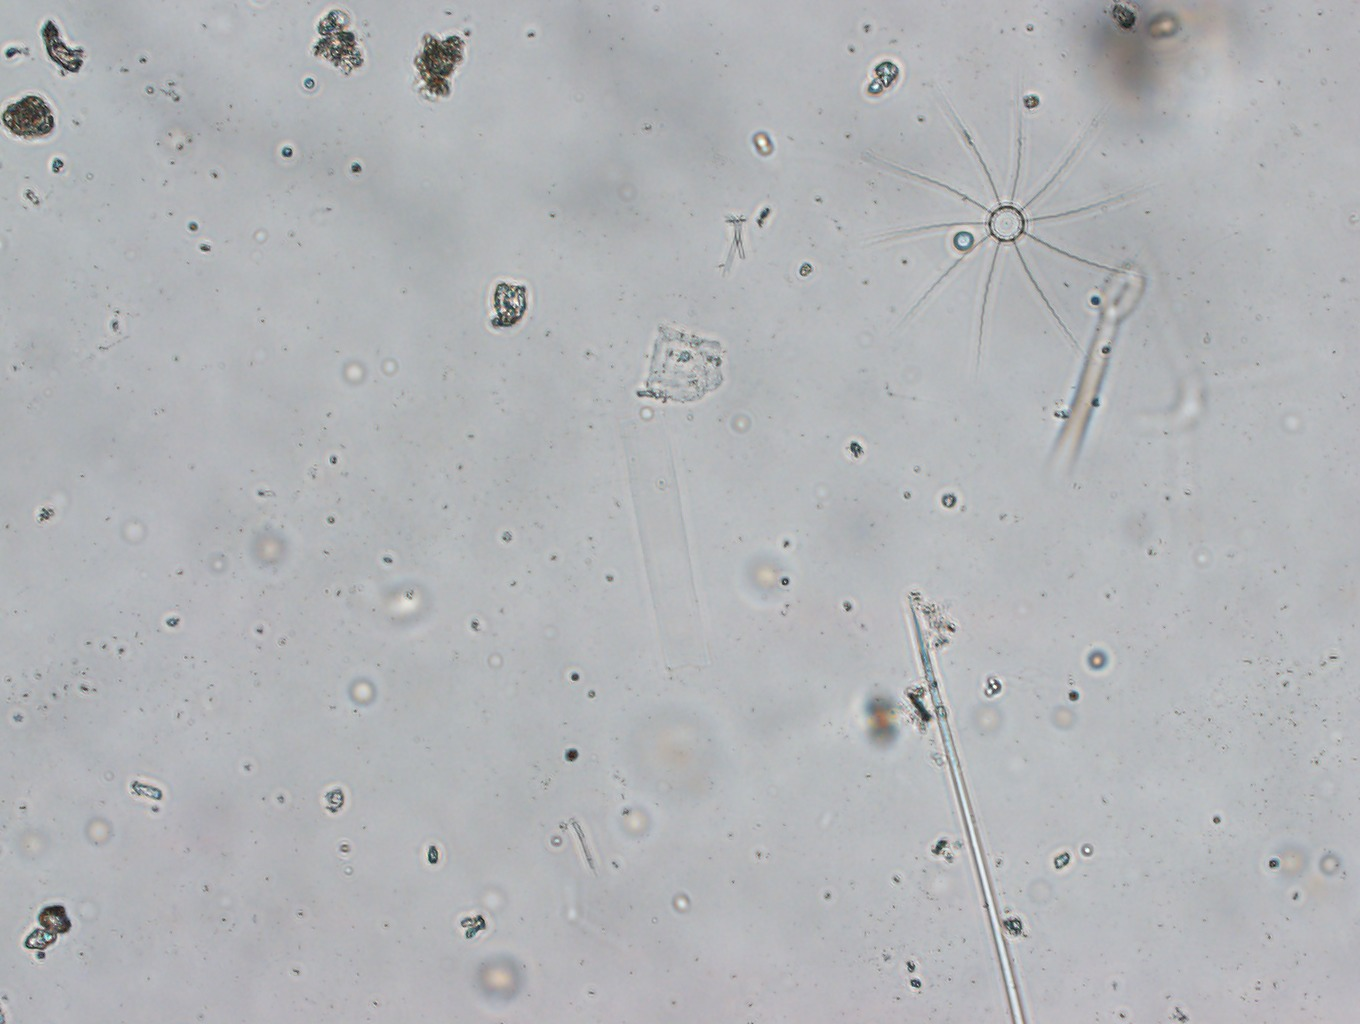bacteriastrum: (879, 105, 1128, 358)
